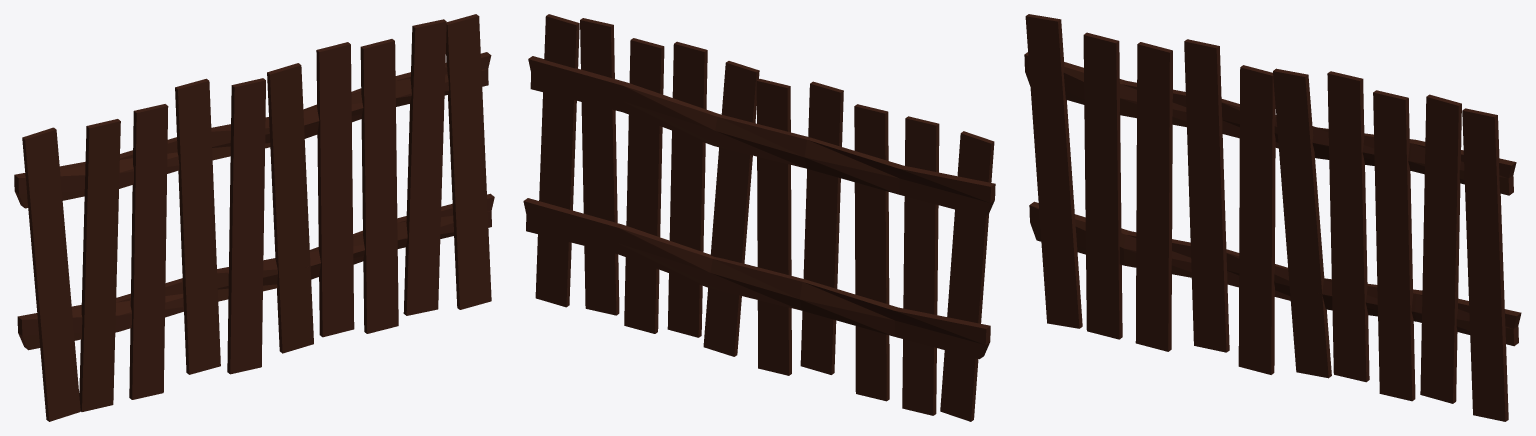
The model's file is Fence 2.fbx.
3 views of the same model, side by side, from view 1: azimuth 30°, elevation 25°; view 2: azimuth 150°, elevation 25°; view 3: azimuth 330°, elevation 25° (orthographic). The views are drawn at different scales.
Visible parts, largest first — view 1: Fence.002; view 2: Fence.002; view 3: Fence.002.
Boxes of the visible parts, box(x1,y1,x2,y2) form: Fence.002: box(14, 14, 494, 421); Fence.002: box(523, 14, 995, 421); Fence.002: box(1024, 14, 1521, 421).
Bounding box in the file's own units: 815 × 506 × 39.14.
